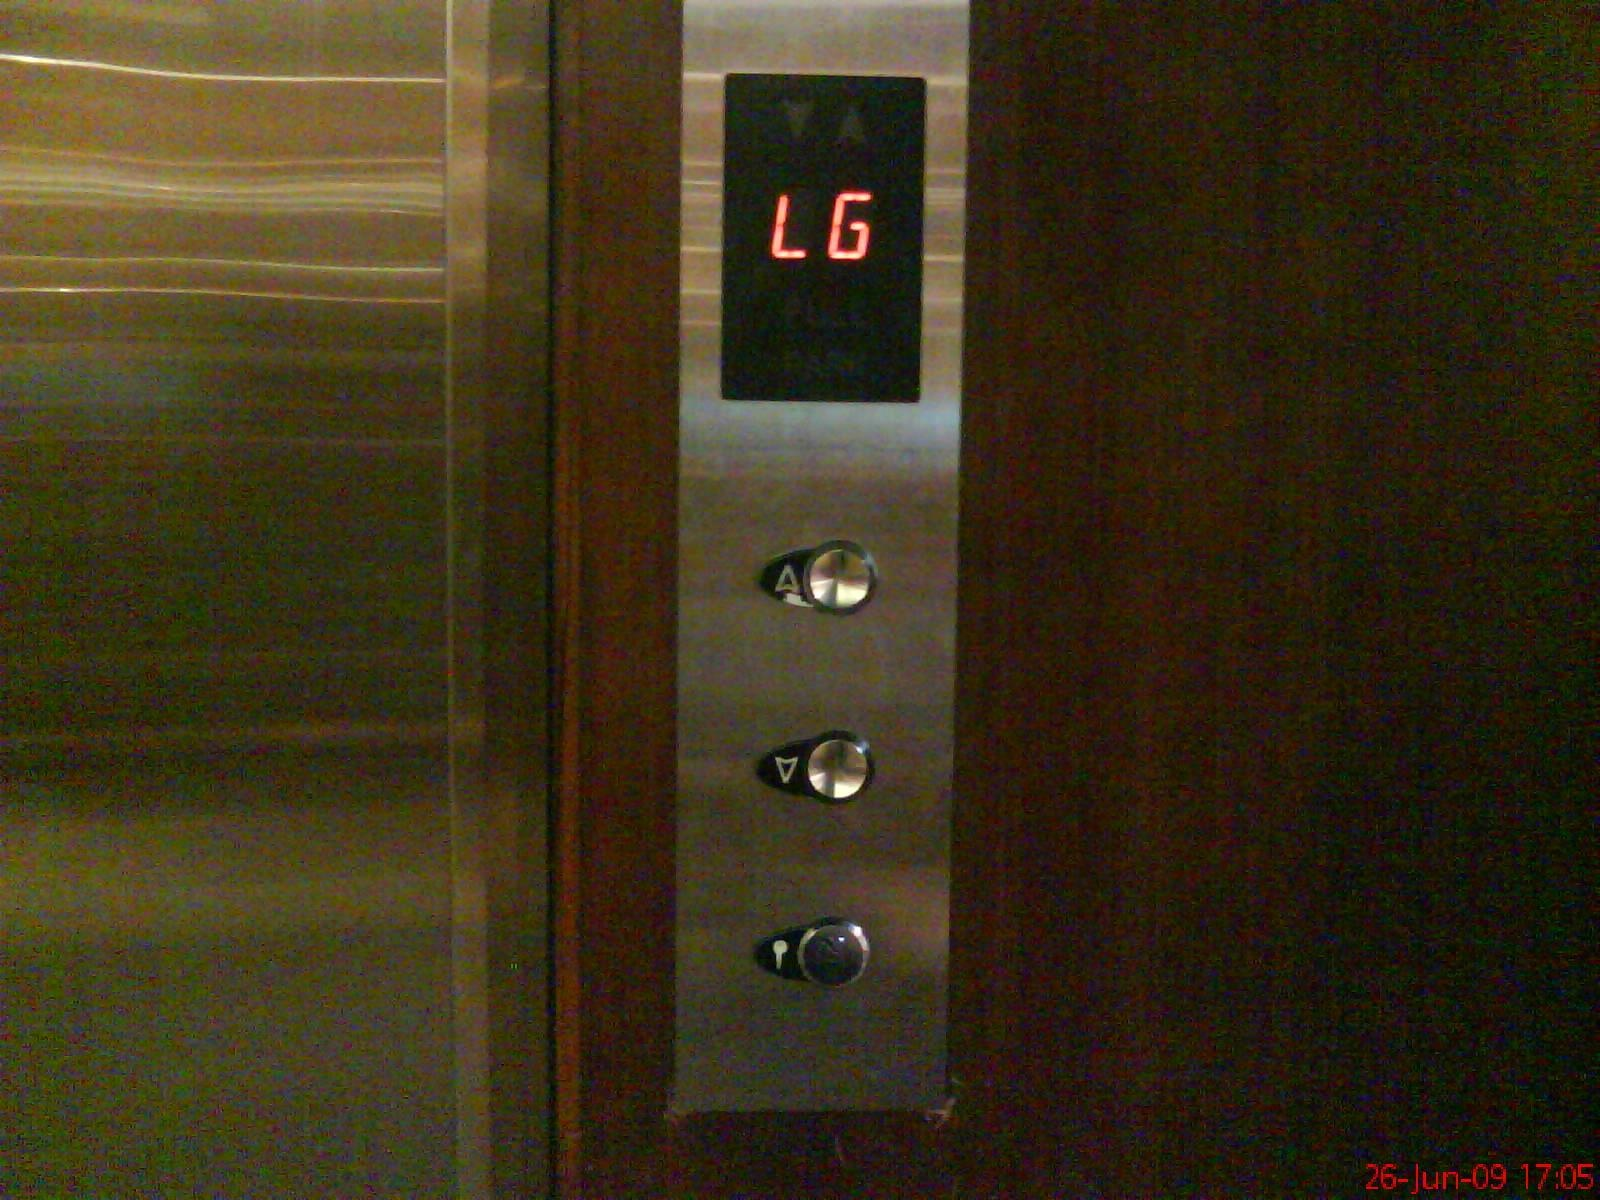down: (750, 721, 878, 808)
key: (747, 911, 876, 992)
led: (713, 64, 935, 410)
up: (755, 534, 879, 619)
